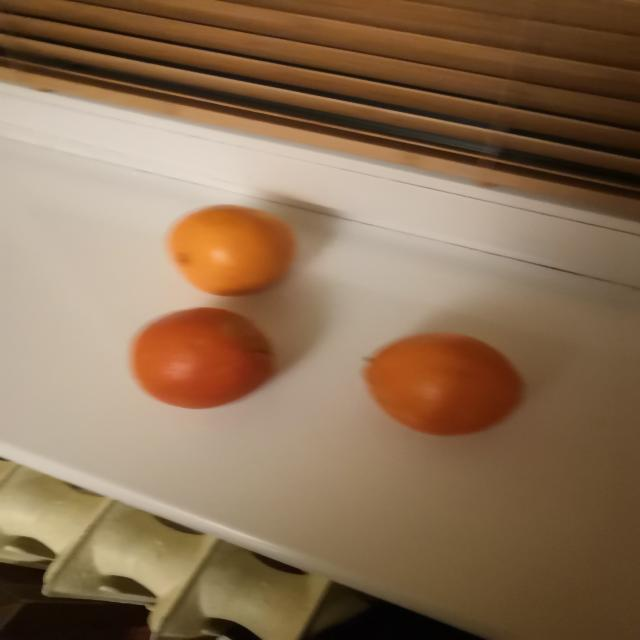orange: (363, 332, 522, 435), (132, 308, 272, 409), (167, 205, 295, 296)
